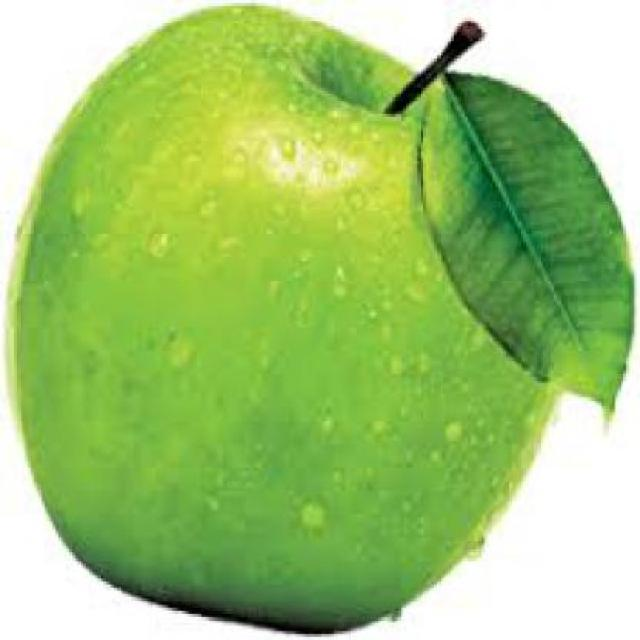BIODEGRADABLE: (11, 2, 554, 632), (417, 67, 632, 427)
